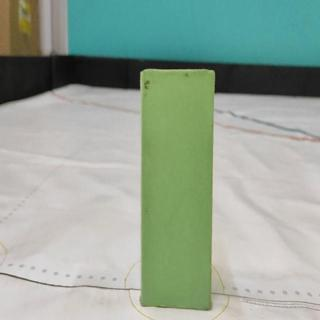greenbox: (140, 68, 214, 311)
